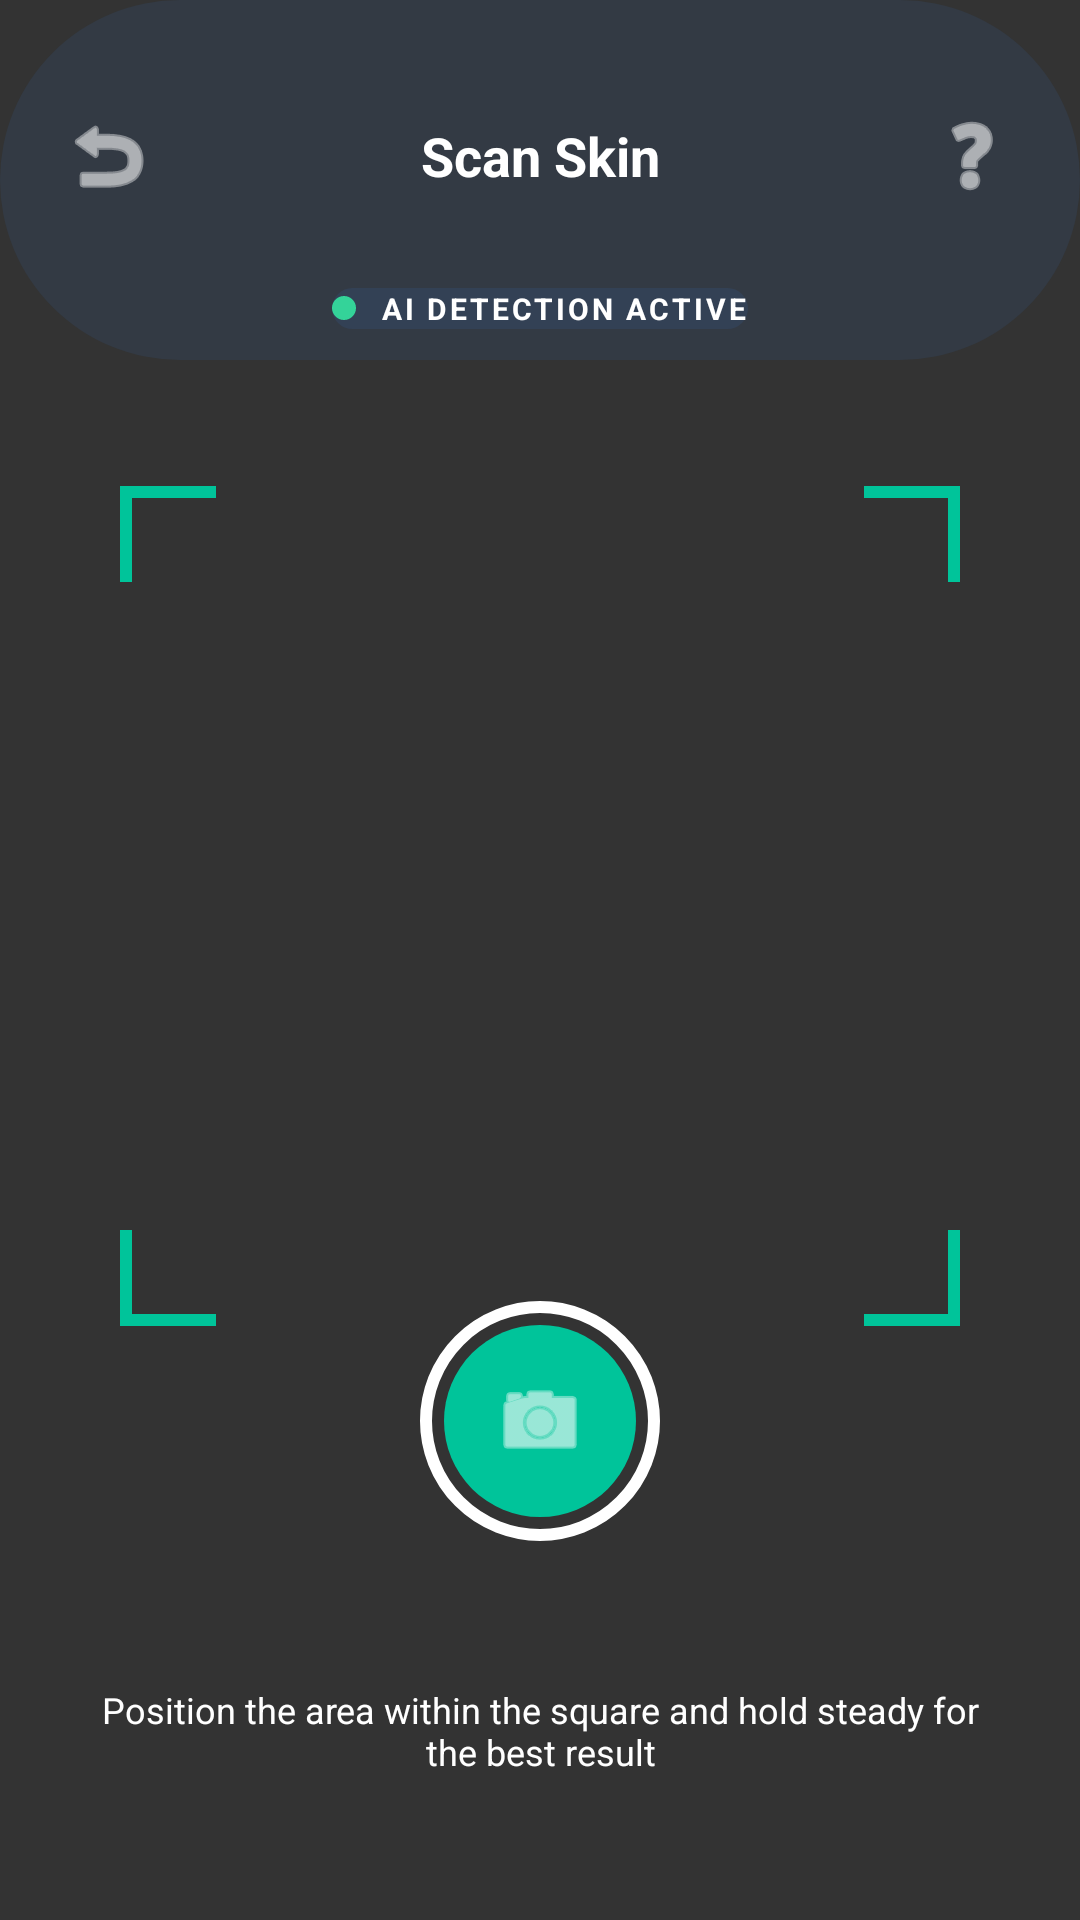

Icon click points for this 1080×1920 phone screenshot, format point (x, y):
camera: point (540, 1421)
help: point (972, 156)
revert: point (109, 156)
